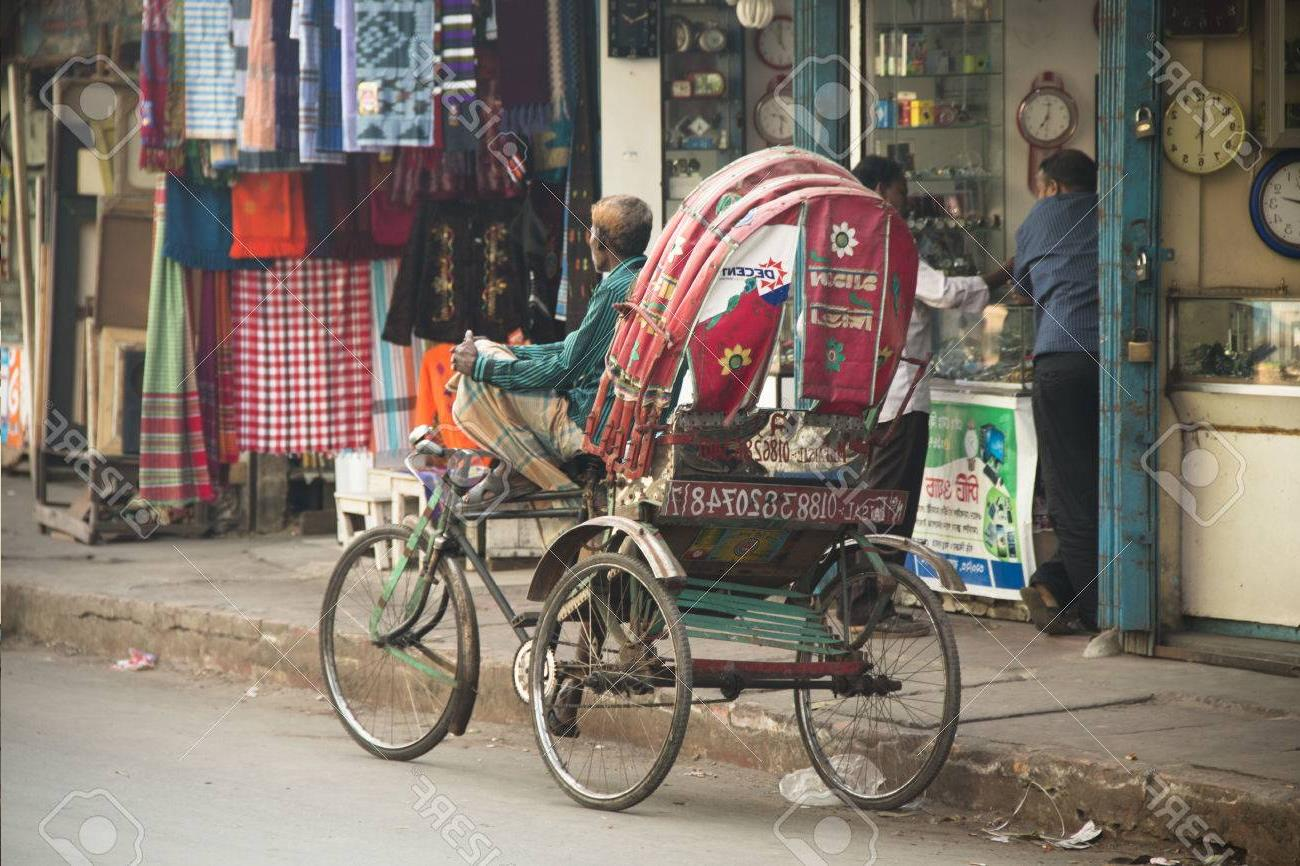Rickshaw: (303, 171, 976, 830)
